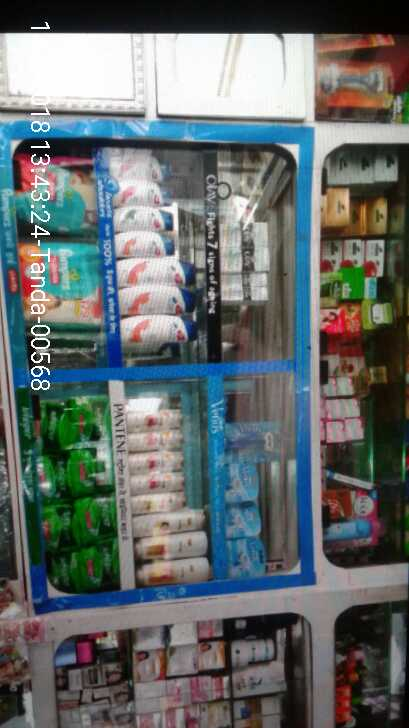venus: (224, 420, 289, 463), (226, 504, 263, 539), (224, 463, 258, 501), (227, 543, 266, 574)
